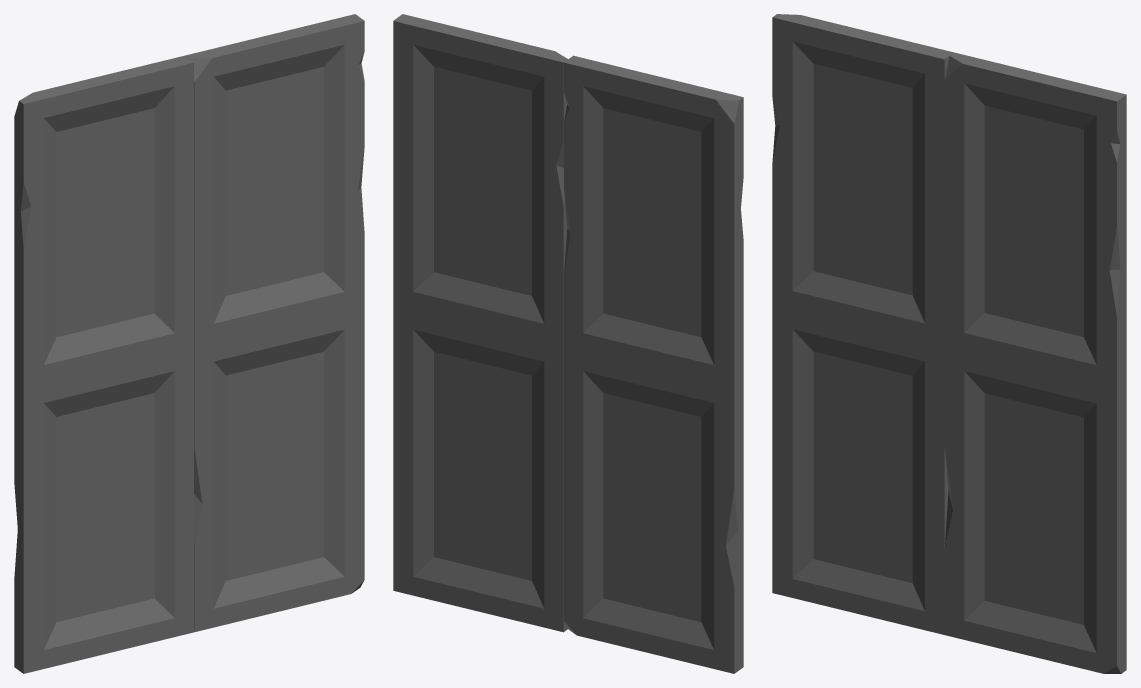
Rendered from SM_Bld_House_Window_Shutters_Closed_01.fbx.
3 renders of one model, left to right at view 1: azimuth 30°, elevation 25°; view 2: azimuth 150°, elevation 25°; view 3: azimuth 330°, elevation 25°, orthographic.
Parts seen in each view (by area): view 1: SM_Bld_House_Window_Shutters_Closed_01; view 2: SM_Bld_House_Window_Shutters_Closed_01; view 3: SM_Bld_House_Window_Shutters_Closed_01.
Boxes of the visible parts, x1=… form: SM_Bld_House_Window_Shutters_Closed_01: x1=14, y1=14, x2=364, y2=673; SM_Bld_House_Window_Shutters_Closed_01: x1=393, y1=14, x2=743, y2=673; SM_Bld_House_Window_Shutters_Closed_01: x1=772, y1=14, x2=1126, y2=673.
Size of the model in its own units: 108 by 172 by 5.16.
